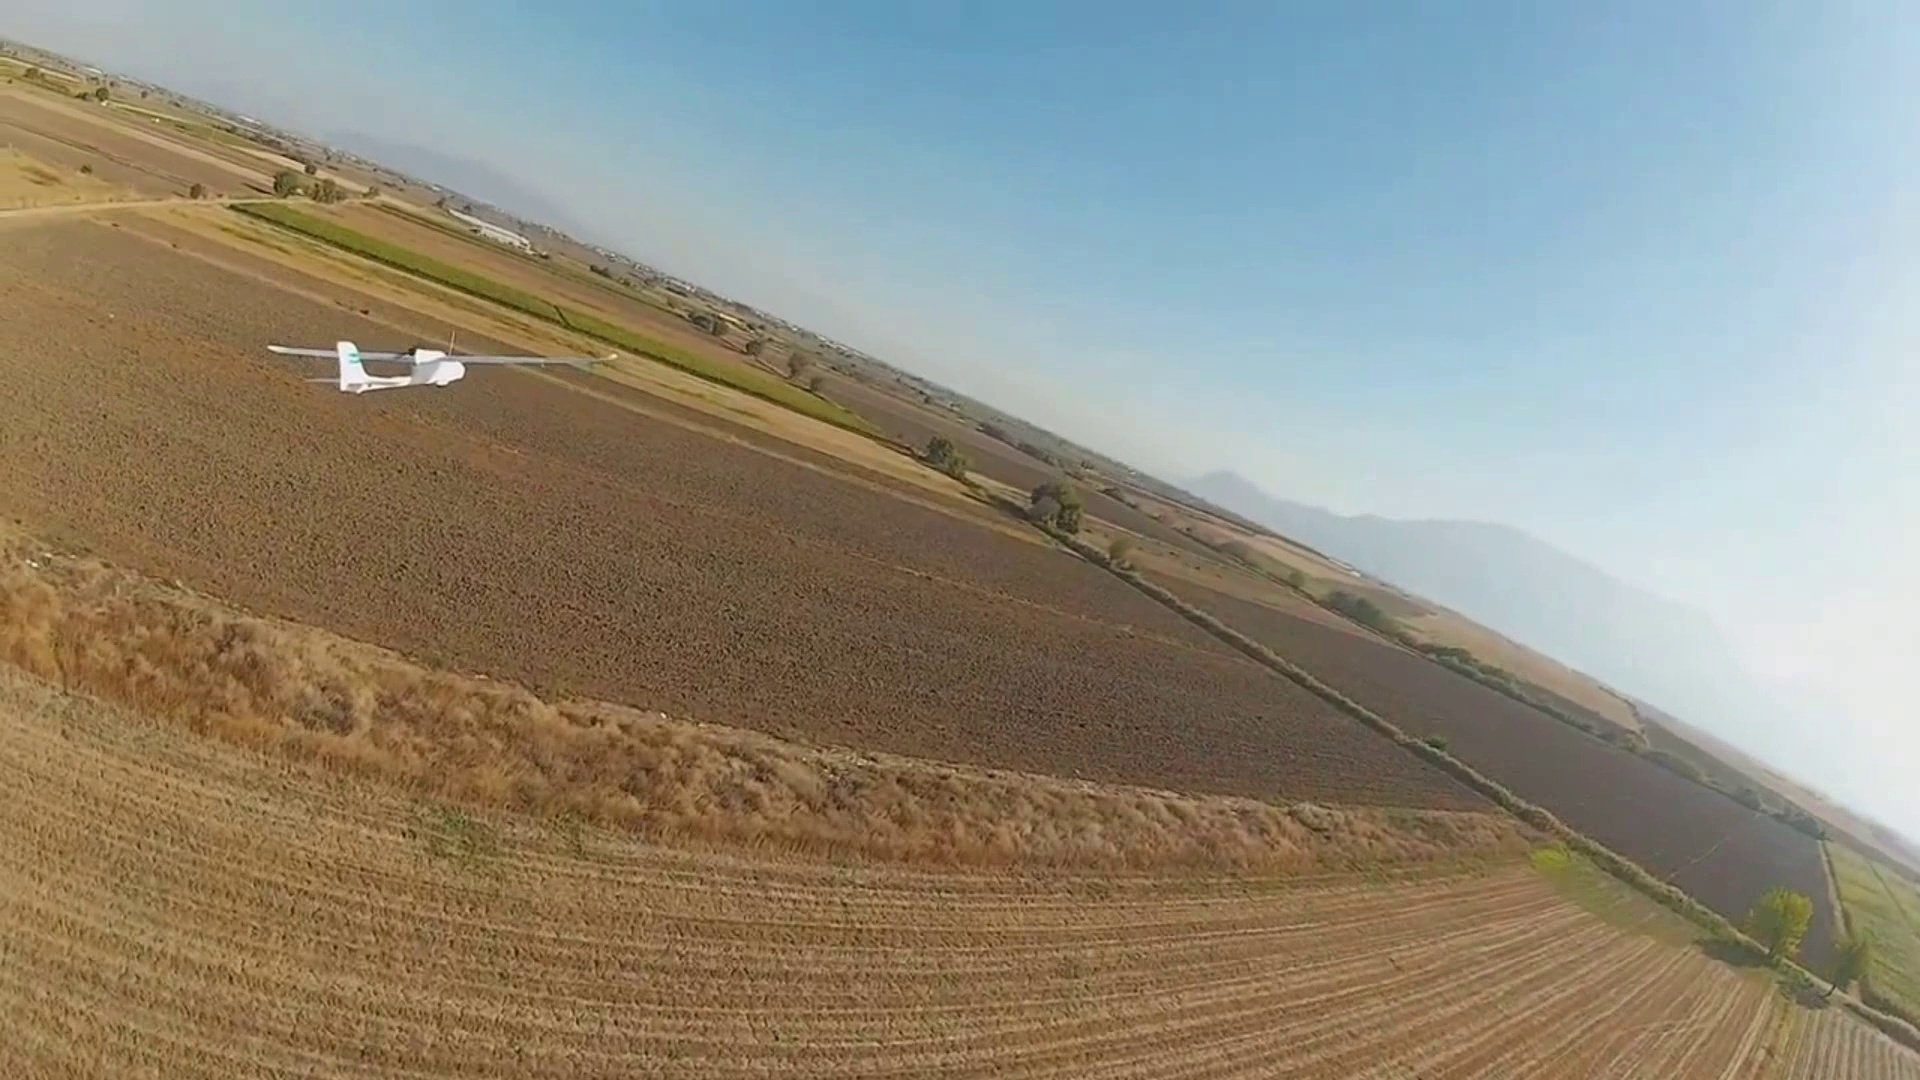airplane: (264, 339, 465, 392)
